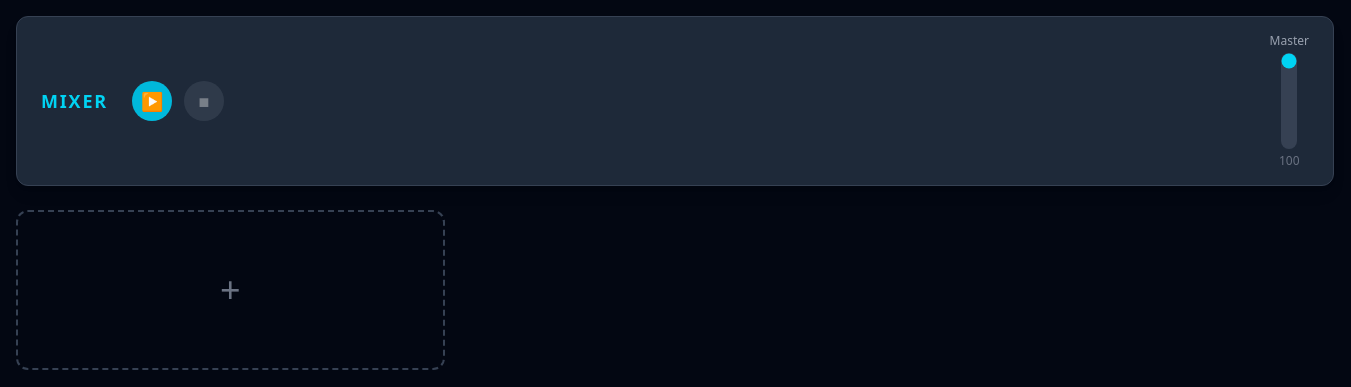
Test case: MixerBoard › stop button ends playback (re-enables Play)
The image size is (1351, 387).
Click the button titled "Play".
click(152, 101)  # box [132,81,172,121]
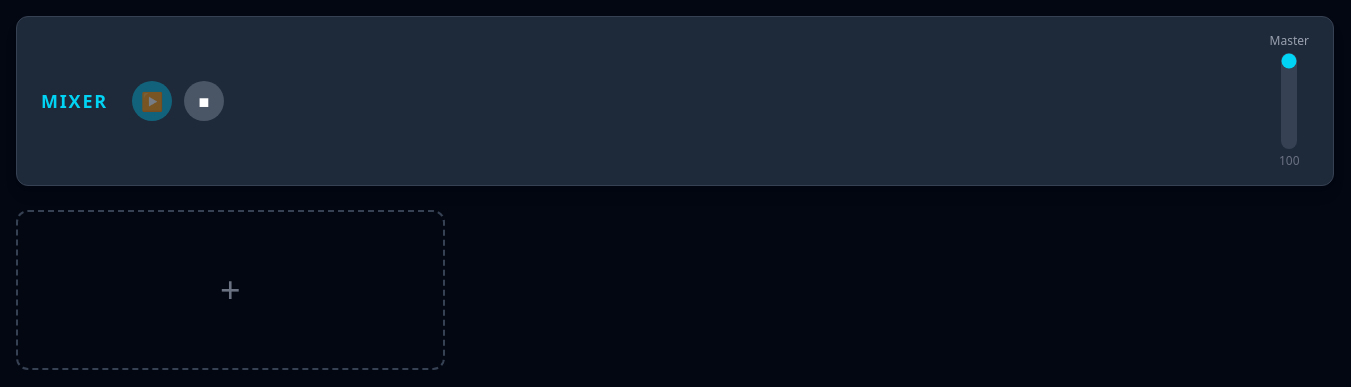
Click the button titled "Stop".
click(204, 101)  # box [184,81,224,121]
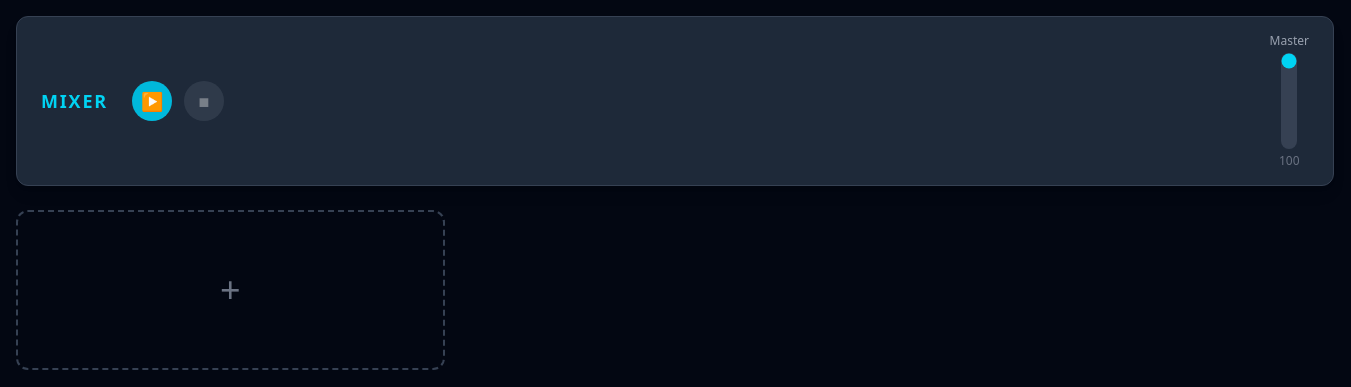
Check: the button titled "Play" is enabled, box [132,81,172,121]
